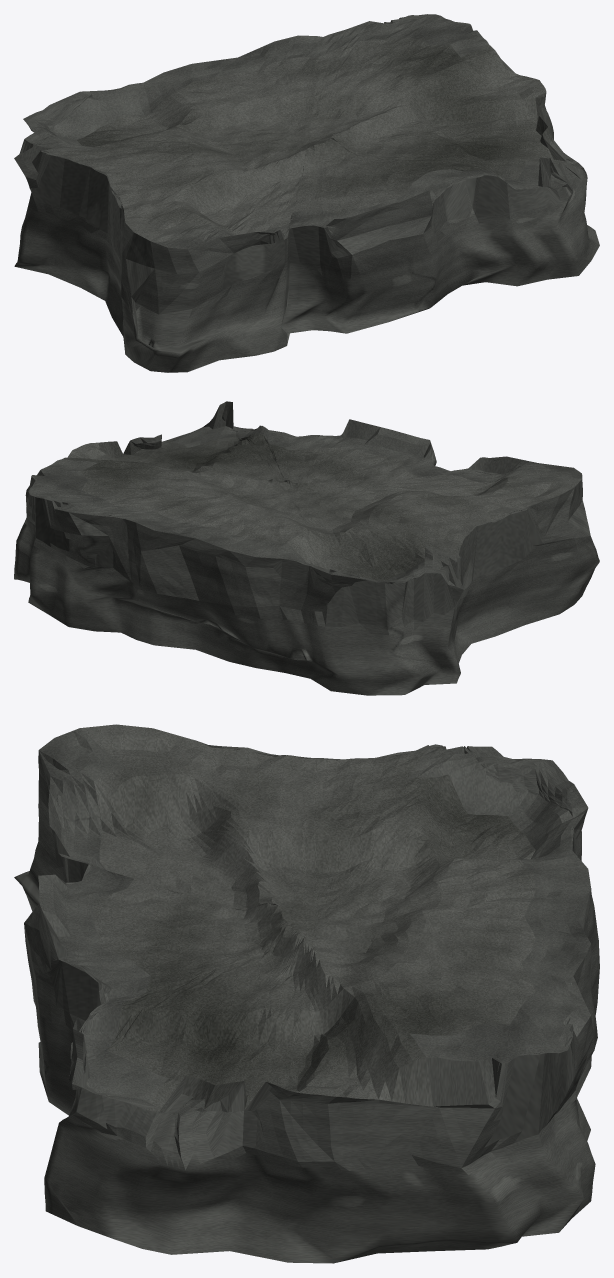
File: f3_concrete_rubble_v29_medium.glb
3 renders of one model, top to bottom at view 1: azimuth 30°, elevation 25°; view 2: azimuth 150°, elevation 25°; view 3: azimuth 270°, elevation 25°, orthographic. The views are drawn at different scales.
Parts seen in each view (by area): view 1: F3_CONCRETE_RUBBLE01_V29_medium; view 2: F3_CONCRETE_RUBBLE01_V29_medium; view 3: F3_CONCRETE_RUBBLE01_V29_medium.
Boxes of the visible parts, x1,y1,x2,y2 form: F3_CONCRETE_RUBBLE01_V29_medium: (14, 14, 599, 372); F3_CONCRETE_RUBBLE01_V29_medium: (14, 401, 599, 695); F3_CONCRETE_RUBBLE01_V29_medium: (14, 724, 599, 1263).
Size of the model in its own units: 0.4671 by 0.1192 by 0.3235.
Materials: 2 (2 with a texture image).
